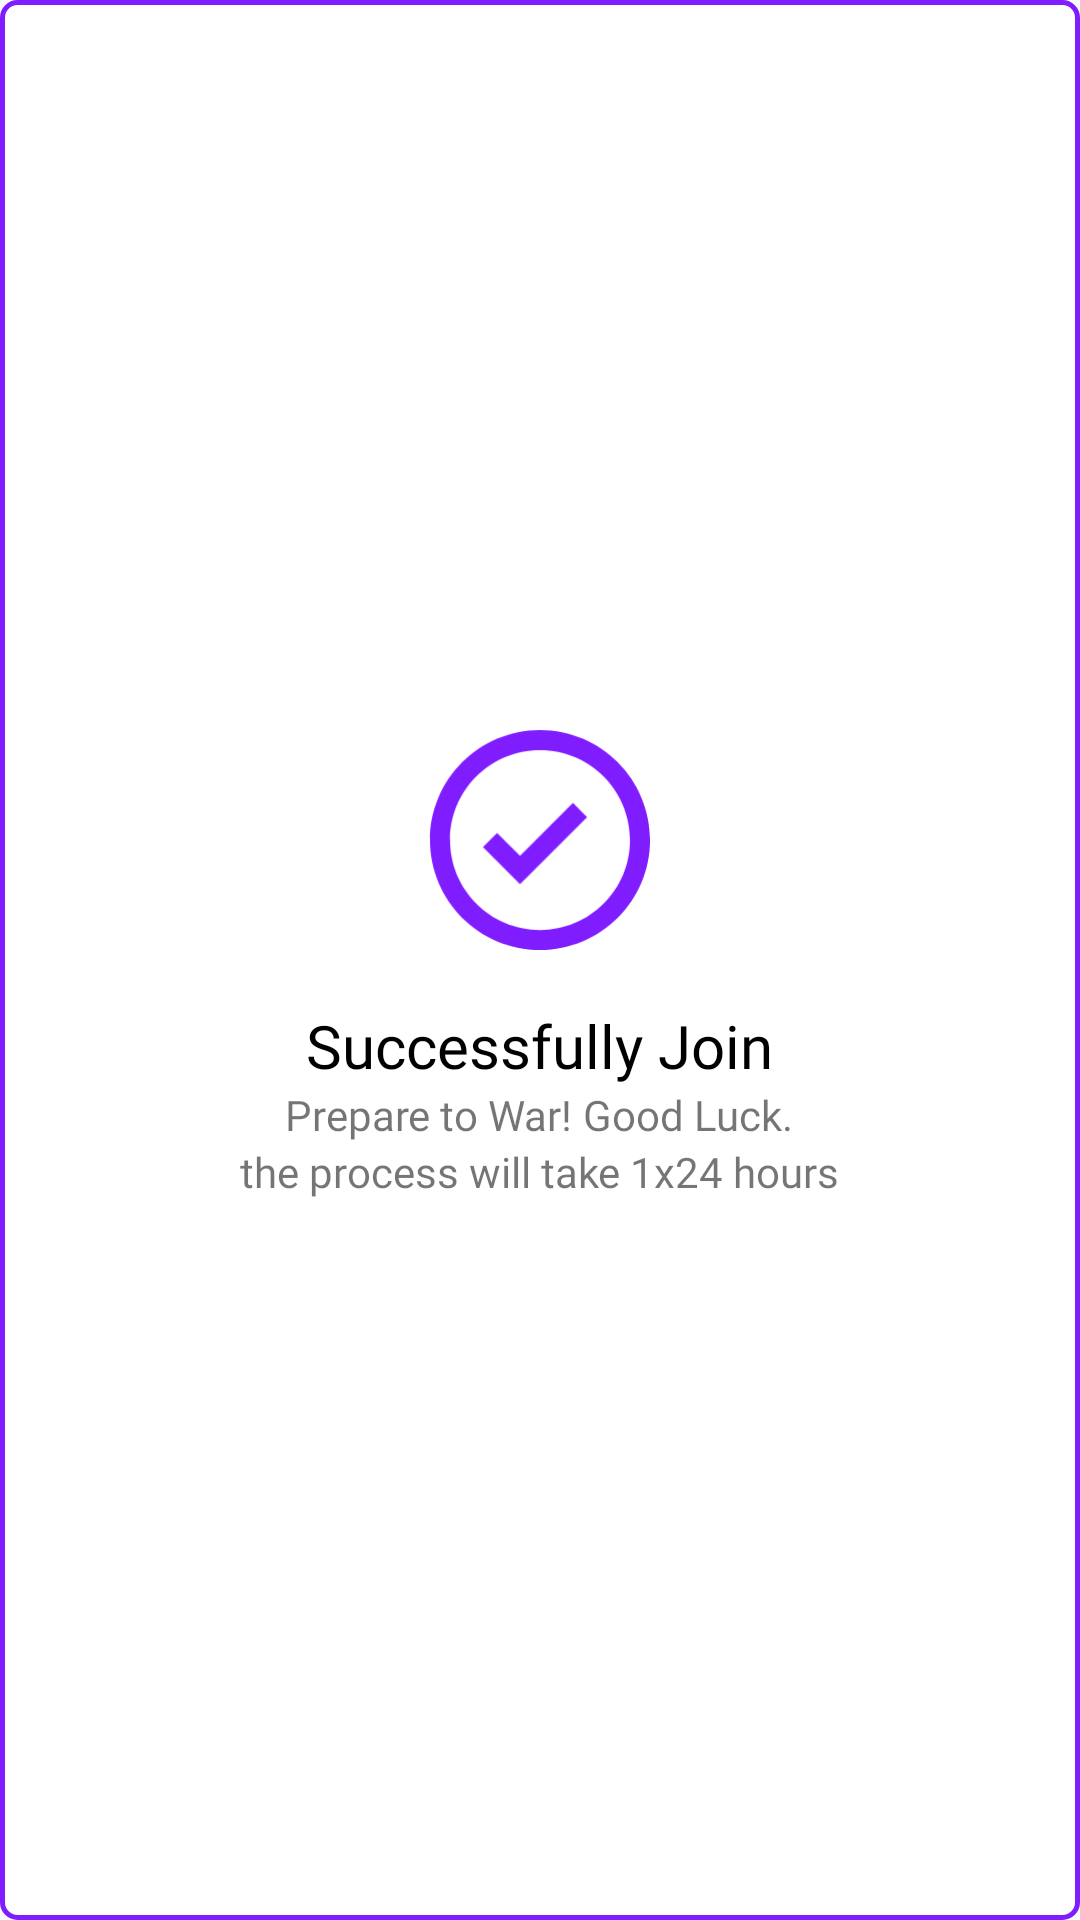

Named icons in this screenshot (1080×1920) and their bounding boxes, (left=x1, top=y1, right=x2, bottom=y2):
circle checked: (left=429, top=730, right=650, bottom=950)
